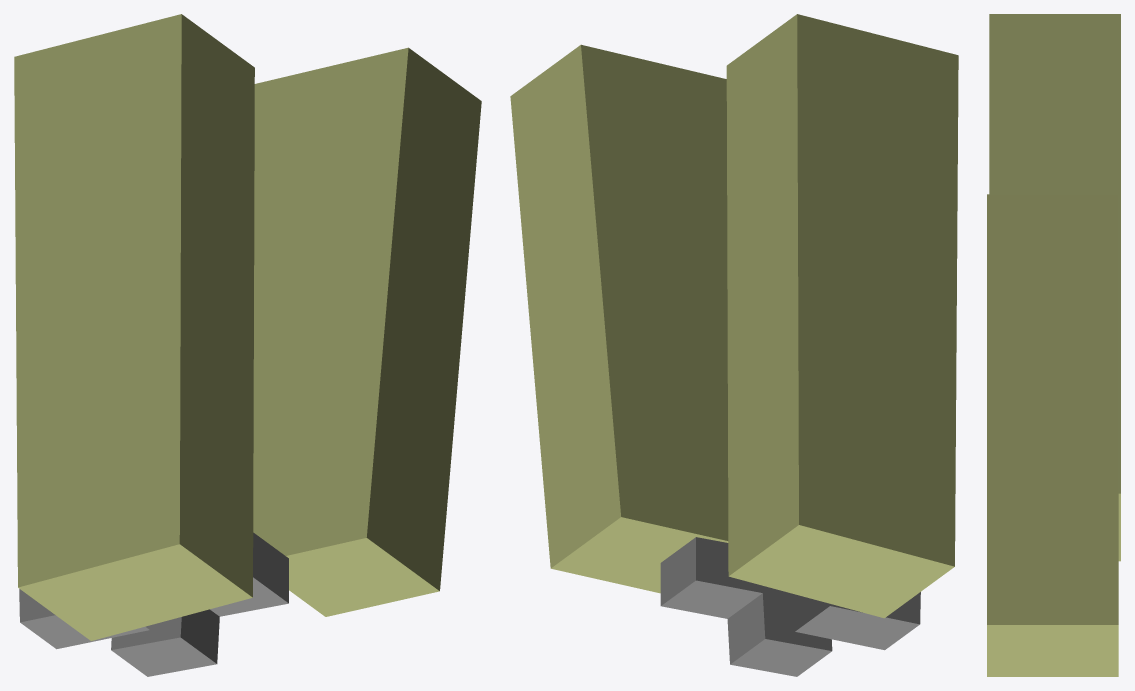
3 views of the same model, side by side, from view 1: azimuth 30°, elevation 25°; view 2: azimuth 150°, elevation 25°; view 3: azimuth 270°, elevation 25° (orthographic). The views are drawn at different scales.
Parts seen in each view (by area): view 1: 0_1_0_0_0_1_1_3_1_2; view 2: 0_1_0_0_0_1_1_3_1_2; view 3: 0_1_0_0_0_1_1_3_1_2.
Boxes of the visible parts, x1,y1,x2,y2 form: 0_1_0_0_0_1_1_3_1_2: (14,14,481,676); 0_1_0_0_0_1_1_3_1_2: (510,14,958,676); 0_1_0_0_0_1_1_3_1_2: (987,14,1120,676).
Bounding box in the file's own units: 18.61 × 28.13 × 6.1.
